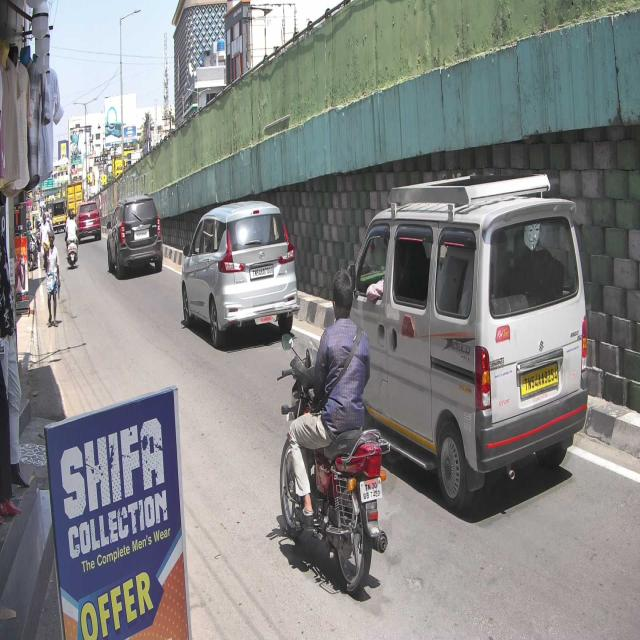single_rider: (279, 266, 391, 592)
